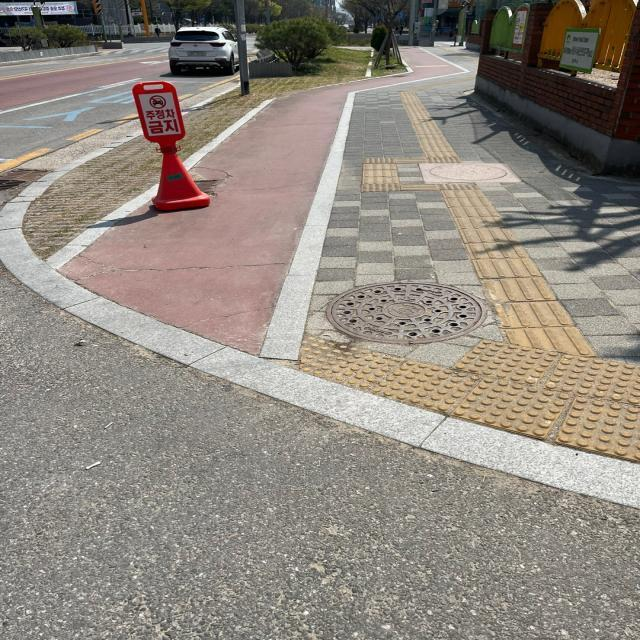manhole: (327, 282, 480, 341)
